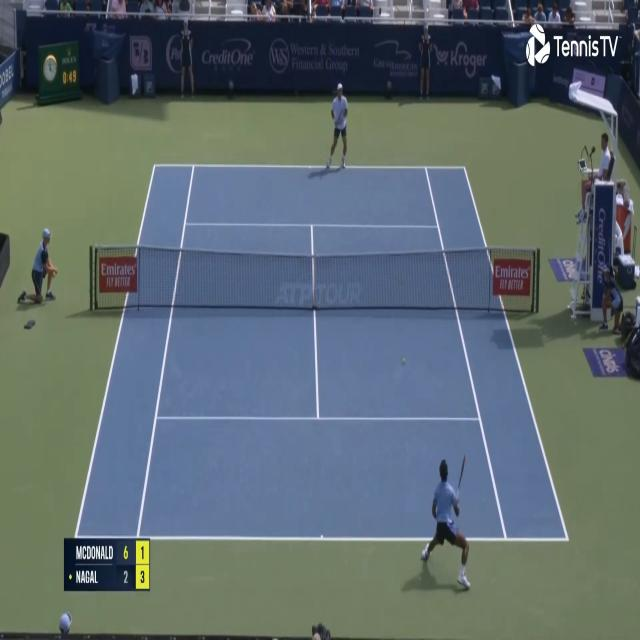tennis-player: (419, 454, 472, 594), (324, 79, 350, 172)
